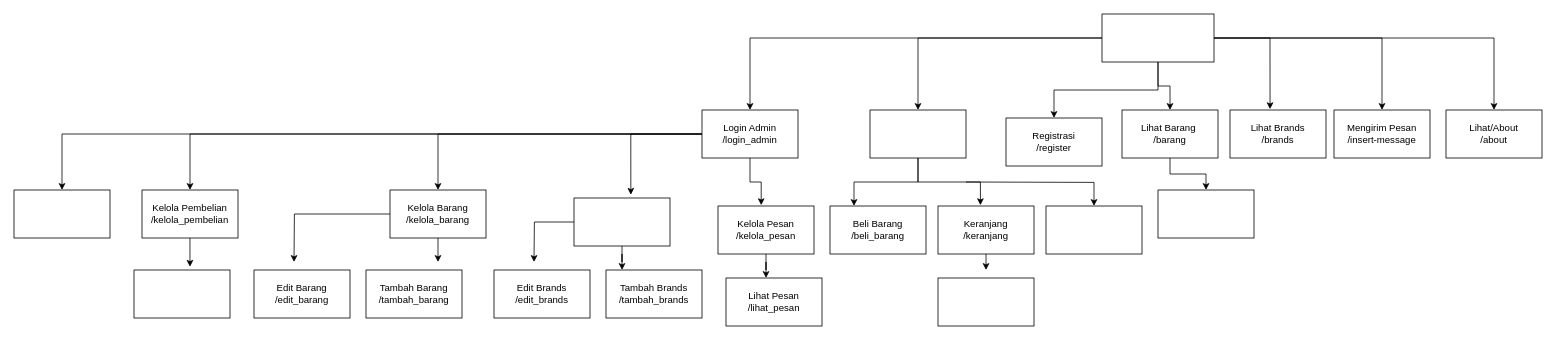
Some shapes in this 1556 by 340 pixel diagram are drawn without their labels. The shapes that lost their labels are listed below. From the top down, each one's centre as x and y in pixels, then its label:
[1157,37]: Home Page /home
[917,133]: Login Customer /login_customer
[61,213]: Laporan Penjualan Barang /laporan_penjualan
[621,221]: Kelola Brands /kelola_brands
[1093,229]: Riwayat Pembelian /pembelian
[1205,213]: Lihat Barang /barang/:id
[181,293]: Lhiat Detail Pembelian /detail_pembelian
[985,301]: Check Out Barang /check_out
